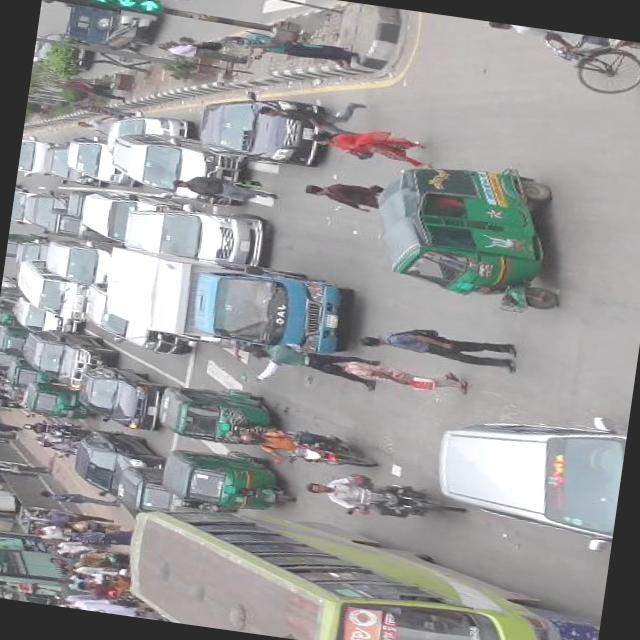bus: (115, 495, 603, 640)
car: (195, 82, 328, 170), (17, 323, 120, 395), (74, 360, 172, 434)
motorcycle: (362, 147, 594, 320), (299, 464, 478, 533), (152, 439, 306, 516), (148, 374, 279, 448), (230, 417, 384, 476), (109, 462, 236, 526), (20, 376, 100, 426), (19, 412, 94, 442), (46, 206, 108, 242), (0, 318, 30, 356)
truck: (92, 240, 360, 362), (116, 192, 274, 274), (103, 130, 261, 210), (7, 254, 100, 323), (61, 2, 158, 54)
